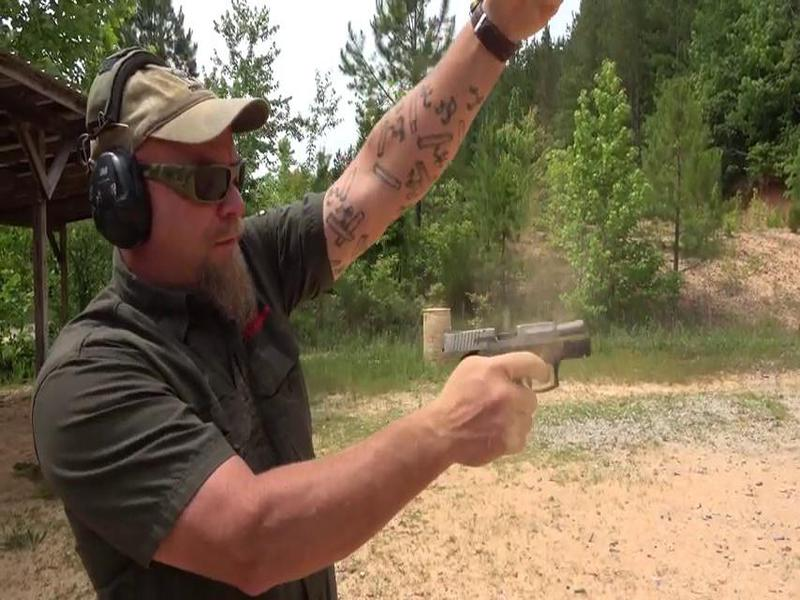Pistola: (437, 295, 587, 442)
